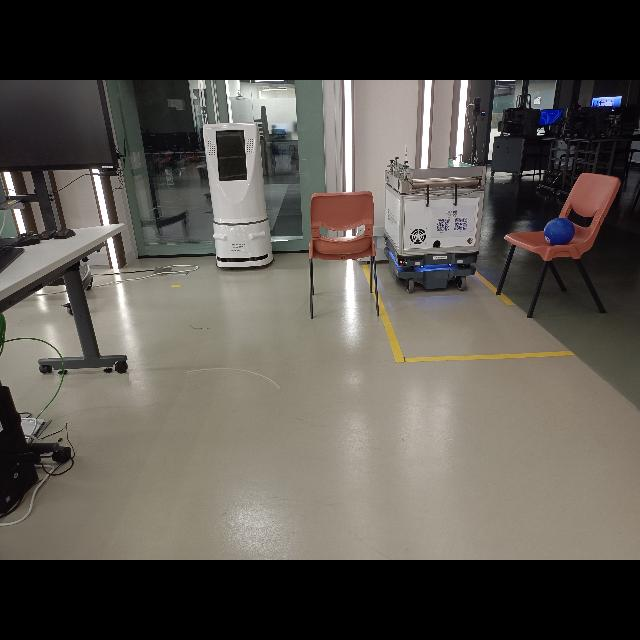B: (544, 218, 576, 245)
